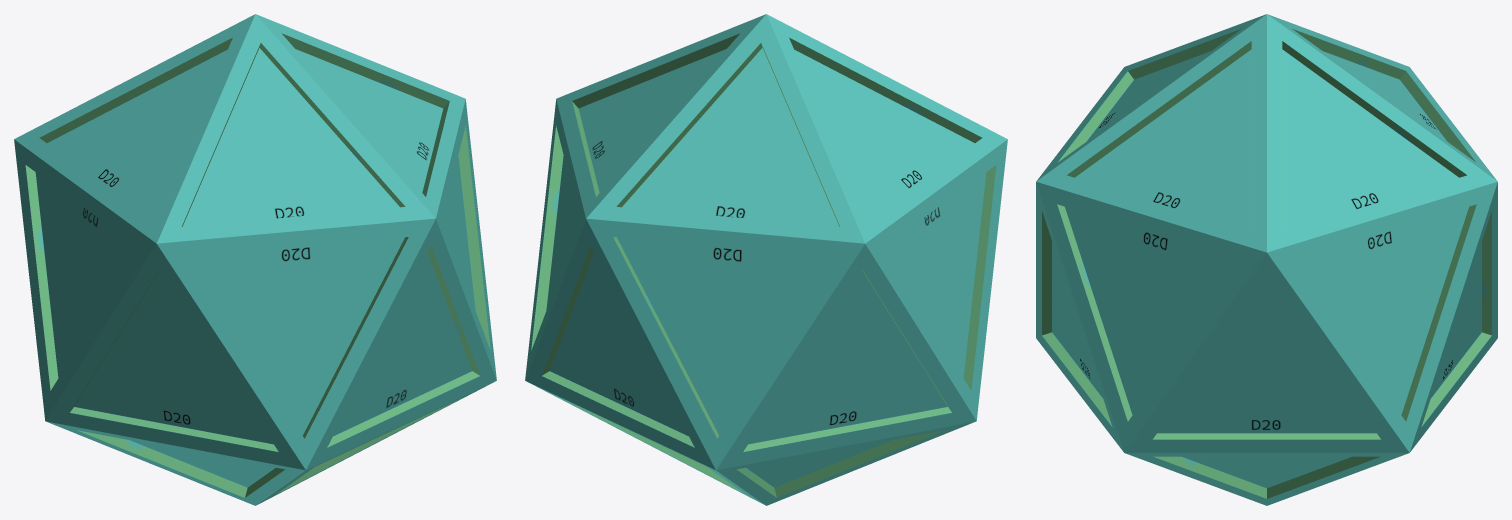
The model's file is D20Complex.obj.
3 views of the same model, side by side, from view 1: azimuth 30°, elevation 25°; view 2: azimuth 150°, elevation 25°; view 3: azimuth 270°, elevation 25° (orthographic).
Visible parts, largest first — view 1: D20Complex; view 2: D20Complex; view 3: D20Complex.
Part boxes in pixels (bbox=[...]): D20Complex: bbox=[14, 14, 496, 505]; D20Complex: bbox=[525, 14, 1007, 505]; D20Complex: bbox=[1036, 14, 1497, 505].
Size of the model in its own units: 2.68 by 3 by 2.55.
1 material, 1 textured.
